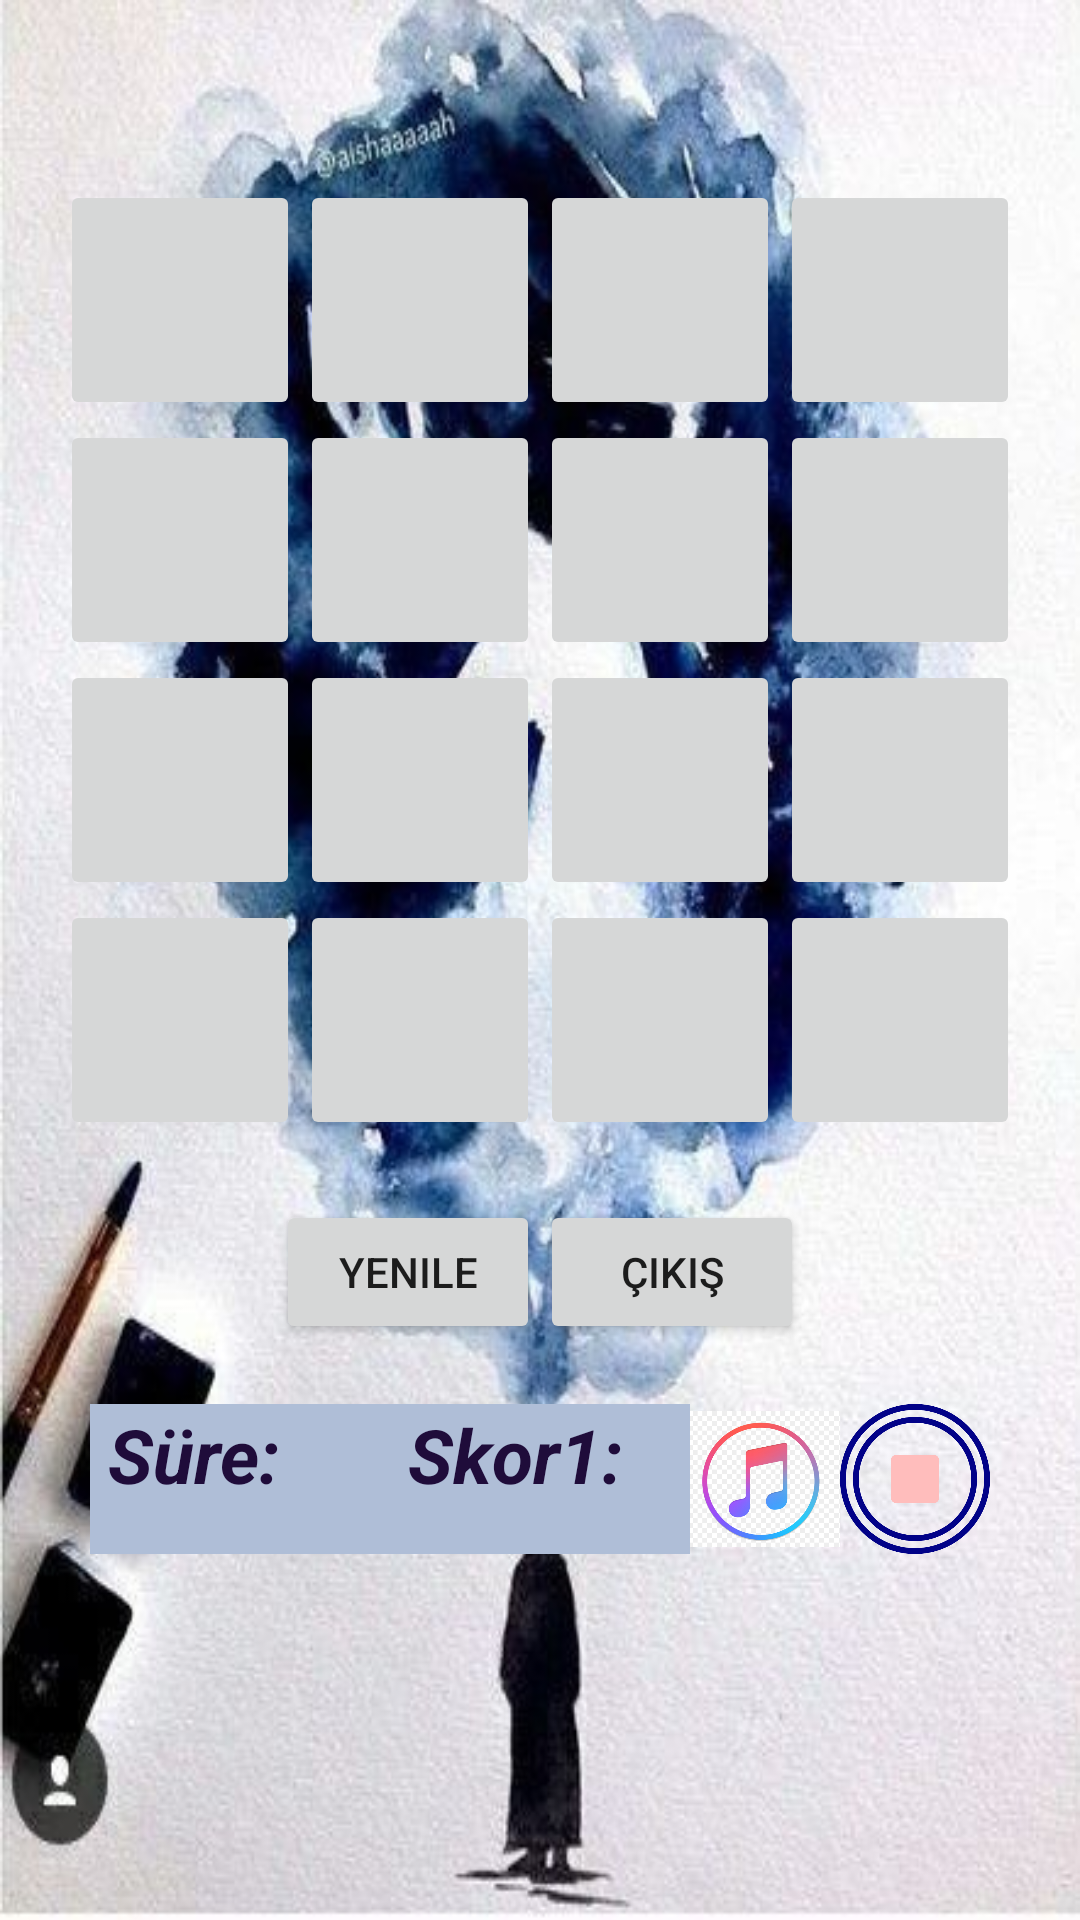

Where to tap for icons on this 1080w x 1920h app screen, as point (x, y):
durdur: point (915, 1479)
